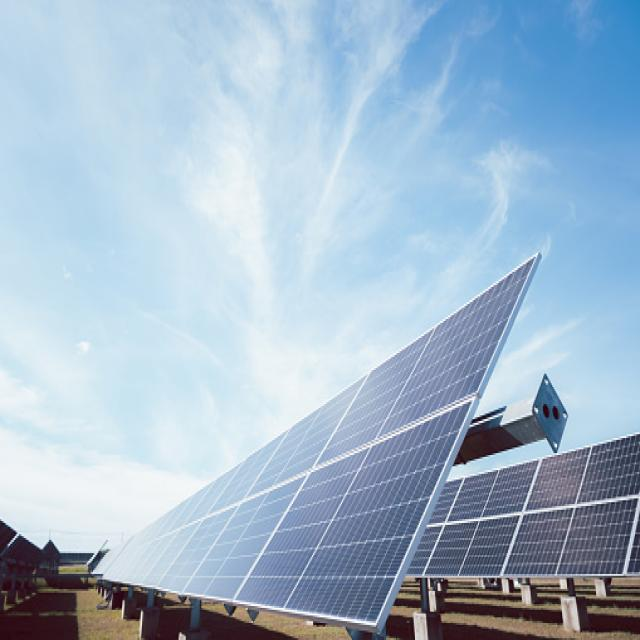clean-solar-panel: (99, 256, 540, 634)
